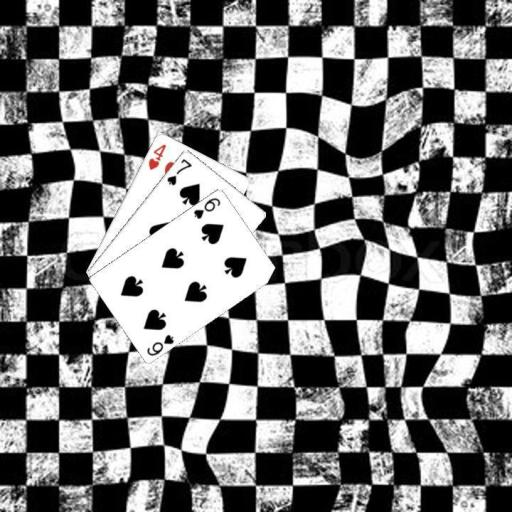card-corner: (164, 155, 194, 187), (190, 194, 222, 221), (144, 331, 176, 357), (145, 140, 168, 171)
